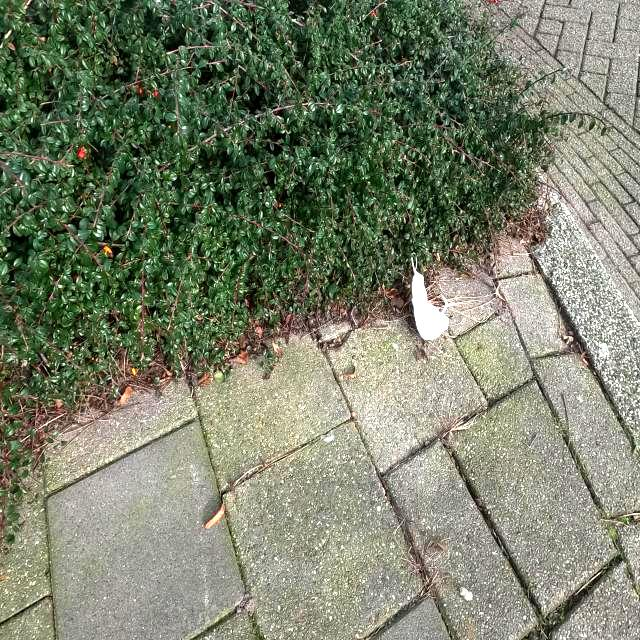Mask: (406, 254, 454, 346)
